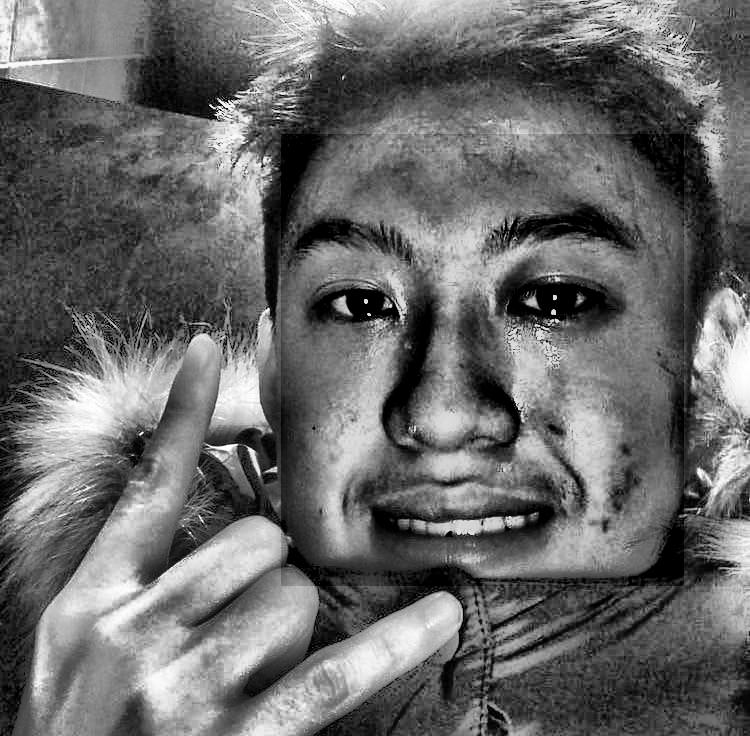sad: (281, 134, 684, 586)
